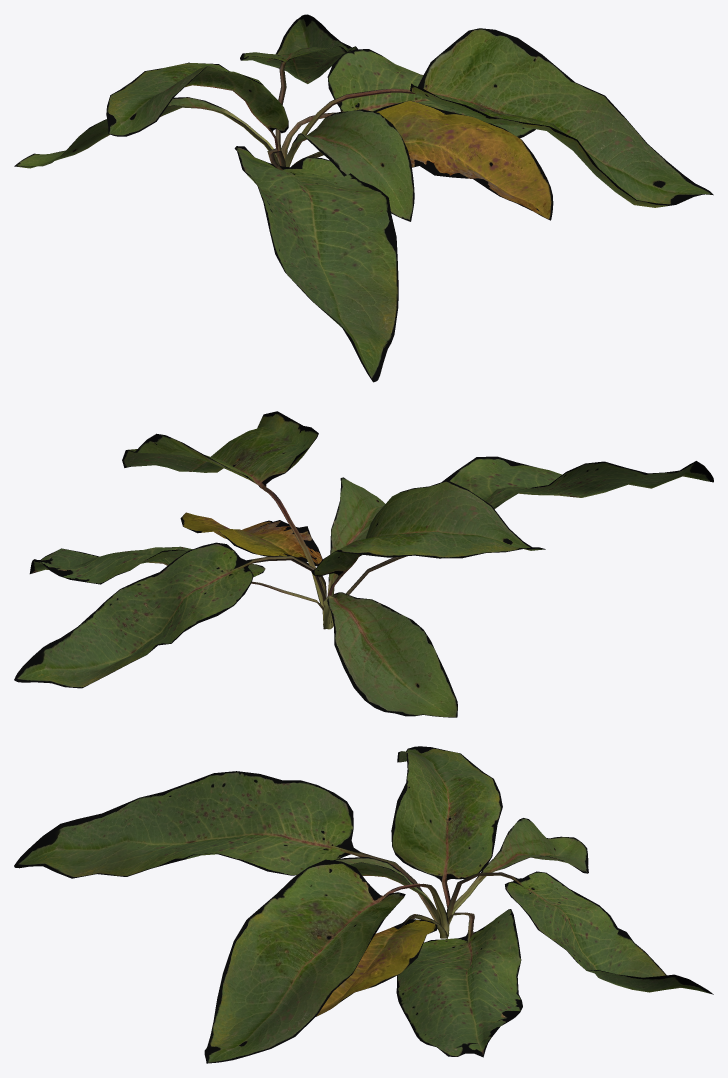
File: weed_plant_02_a.gltf
3 views of the same model, one above another, from view 1: azimuth 30°, elevation 25°; view 2: azimuth 150°, elevation 25°; view 3: azimuth 270°, elevation 25° (orthographic). The views are drawn at different scales.
Parts seen in each view (by area): view 1: weed_plant_02_a_LOD0; view 2: weed_plant_02_a_LOD0; view 3: weed_plant_02_a_LOD0.
Part boxes in pixels (left/top/right/bottom): weed_plant_02_a_LOD0: left=14, top=14, right=713, bottom=382; weed_plant_02_a_LOD0: left=14, top=411, right=713, bottom=717; weed_plant_02_a_LOD0: left=14, top=746, right=713, bottom=1063.
Bounding box in the file's own units: 0.2194 × 0.0725 × 0.2909.
1 material, 1 textured.
